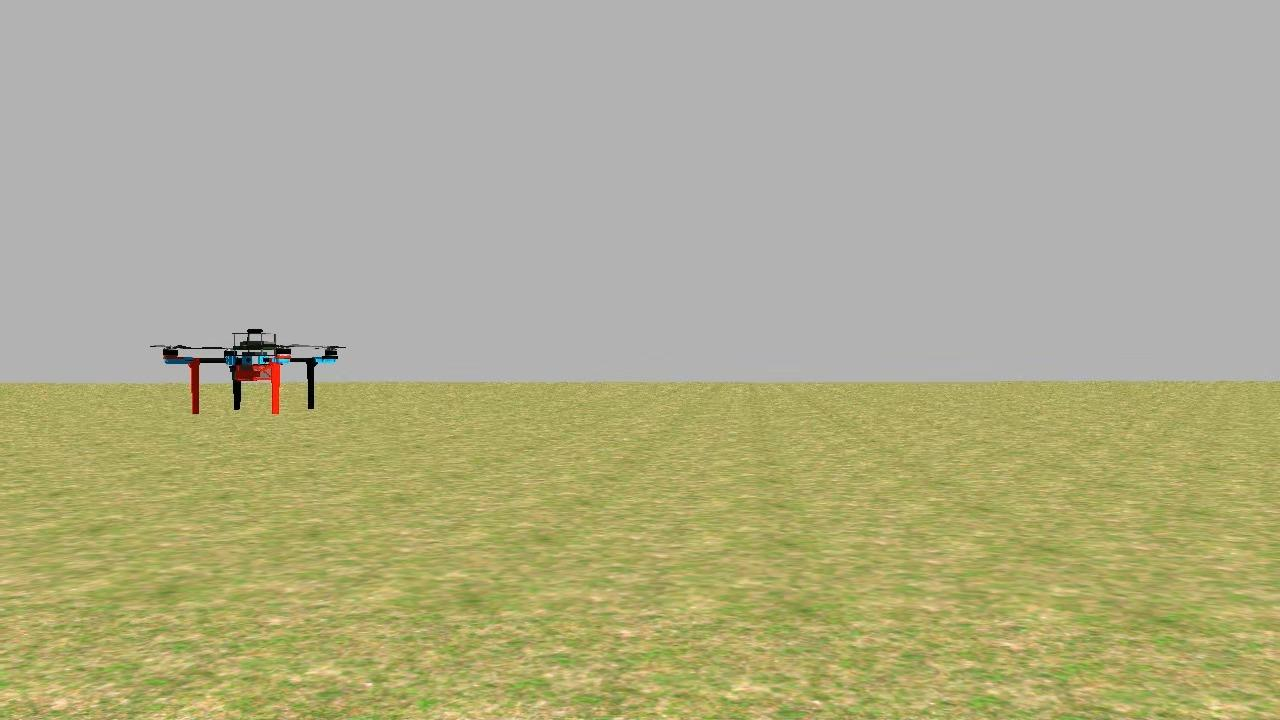UAV: (150, 314, 340, 429)
